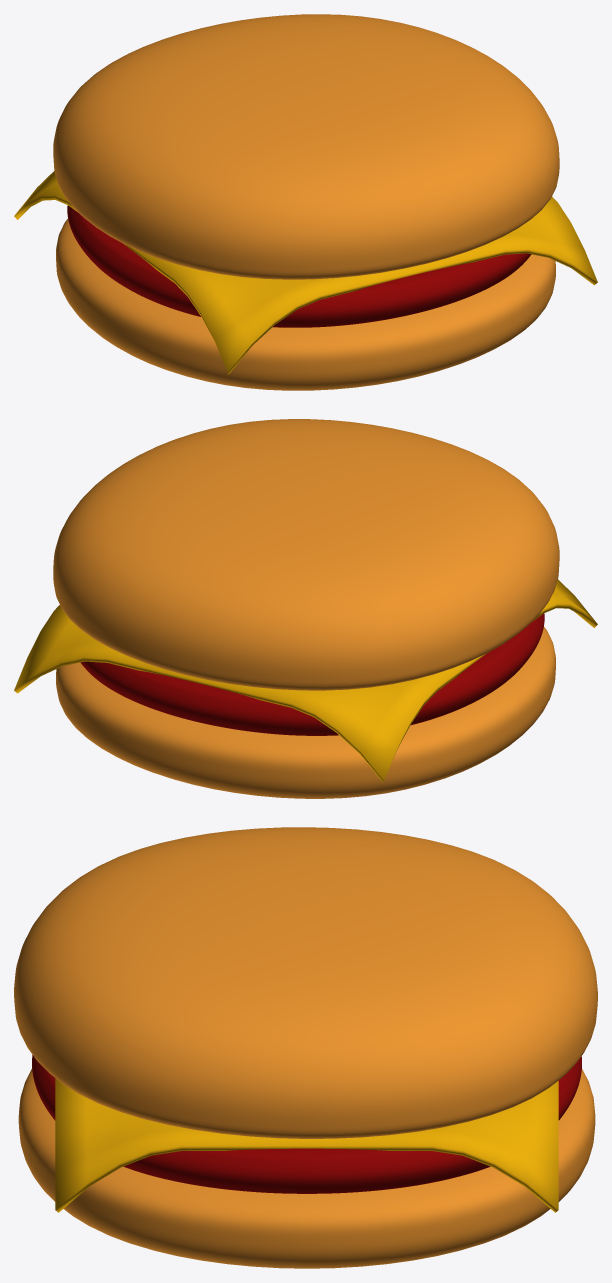
File: hamburger.glb
3 renders of one model, top to bottom at view 1: azimuth 30°, elevation 25°; view 2: azimuth 150°, elevation 25°; view 3: azimuth 270°, elevation 25°, orthographic. The views are drawn at different scales.
Visible parts, largest first — view 1: TopBum, BottomBum, Cheese, Meat; view 2: TopBum, BottomBum, Cheese, Meat; view 3: TopBum, BottomBum, Cheese, Meat.
Boxes of the visible parts, x1,y1,x2,y2 form: TopBum: (53, 14, 559, 279); BottomBum: (56, 219, 555, 390); Cheese: (14, 171, 597, 374); Meat: (67, 205, 531, 327); TopBum: (53, 419, 559, 690); BottomBum: (56, 627, 555, 798); Cheese: (14, 579, 597, 782); Meat: (80, 613, 544, 735); TopBum: (14, 827, 597, 1138); BottomBum: (18, 1068, 595, 1268); Cheese: (55, 1078, 558, 1212); Meat: (32, 1055, 581, 1193).
Bounding box in the file's own units: 9.29 × 4.89 × 9.29.
